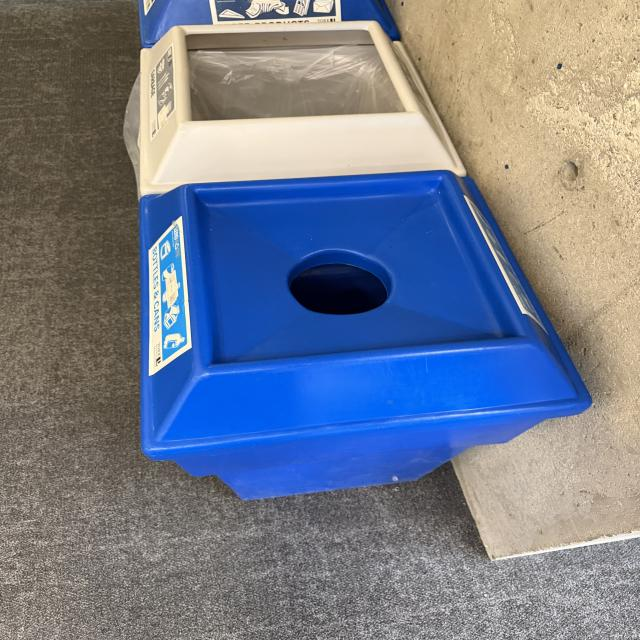Dustbin: (127, 0, 582, 508)
